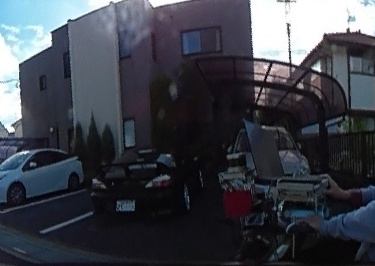person: (314, 50, 375, 254)
